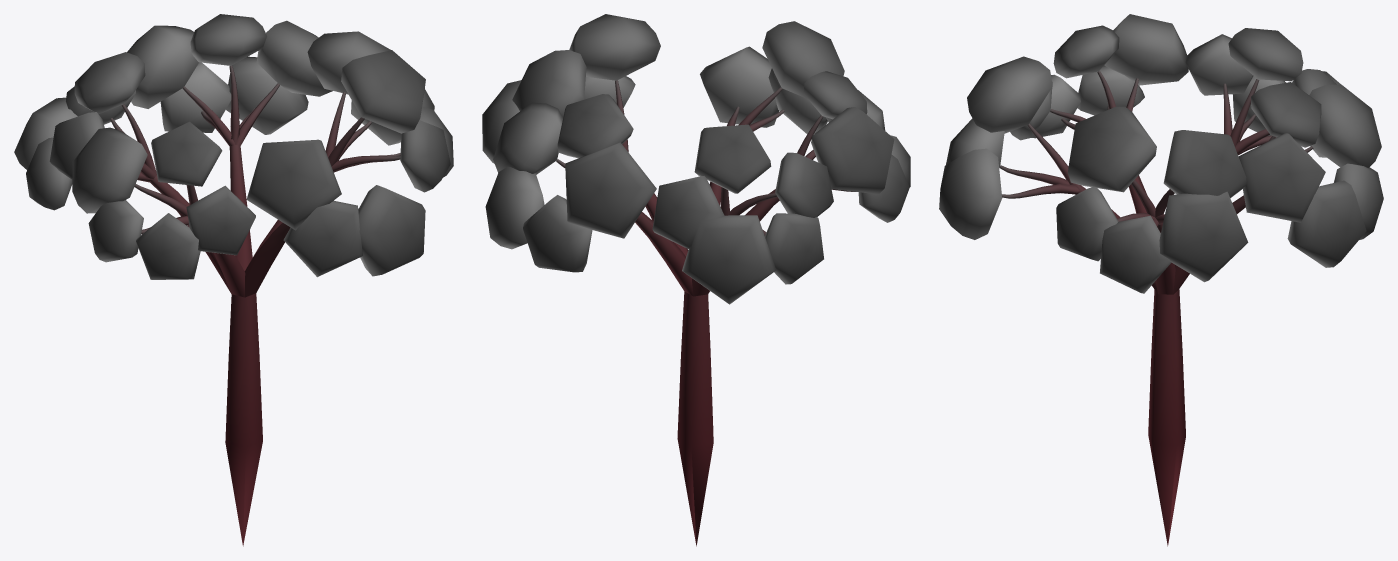
Rendered from plants-trees-palms-gray-leaf-tree_v2.fbx.
3 views of the same model, side by side, from view 1: azimuth 30°, elevation 25°; view 2: azimuth 150°, elevation 25°; view 3: azimuth 270°, elevation 25° (orthographic).
Visible parts, largest first — view 1: Gray Leaf Tree_v2; view 2: Gray Leaf Tree_v2; view 3: Gray Leaf Tree_v2.
Boxes of the visible parts, x1,y1,x2,y2 form: Gray Leaf Tree_v2: (14,14,453,546); Gray Leaf Tree_v2: (482,14,910,546); Gray Leaf Tree_v2: (939,14,1383,546).
Bounding box in the file's own units: 4.05 × 5 × 4.12.
